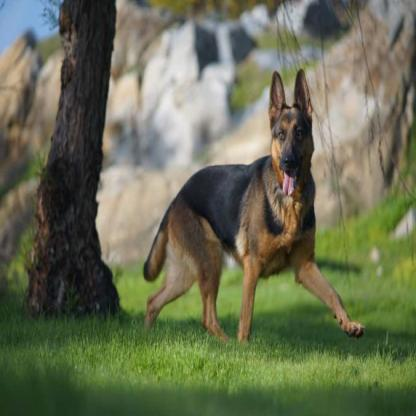german shepherd: (144, 77, 368, 342)
